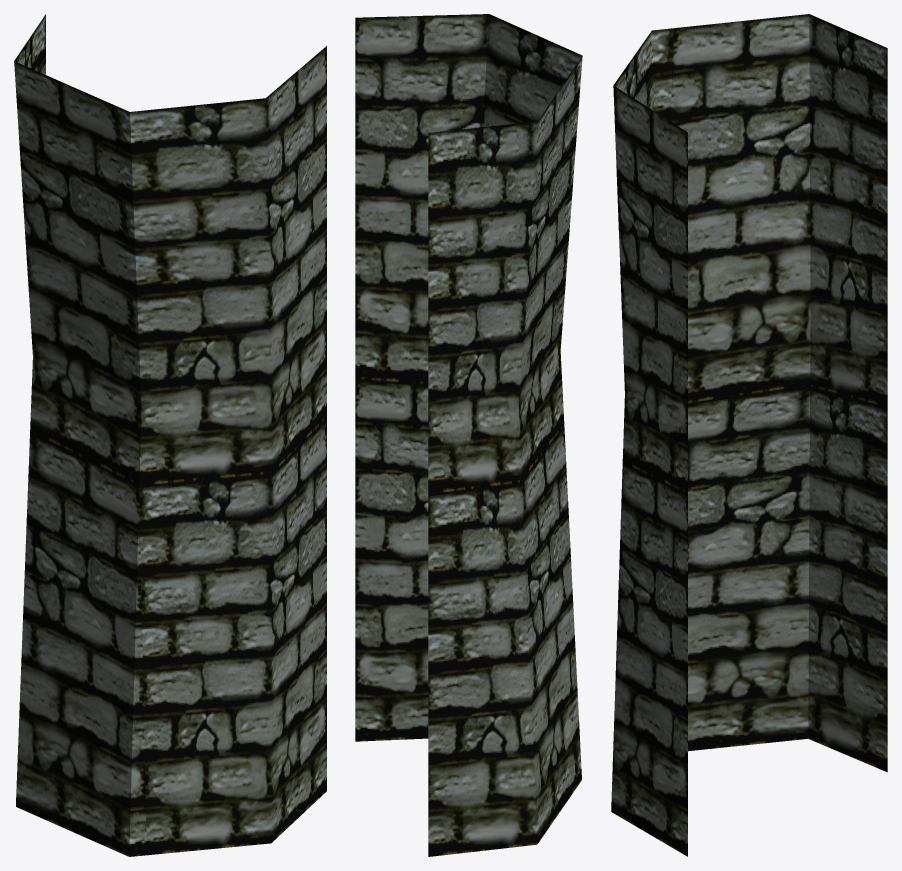
File: Erker_SchluchtModul [Stein]_648.glb
The picture shows the model from 3 angles, left to right: view 1: azimuth 30°, elevation 25°; view 2: azimuth 150°, elevation 25°; view 3: azimuth 270°, elevation 25°; orthographic projection. The views are drawn at different scales.
Parts seen in each view (by area): view 1: pPlaneShape10; view 2: pPlaneShape10; view 3: pPlaneShape10.
Part boxes in pixels (<box>): pPlaneShape10: <box>14,14,326,856</box>; pPlaneShape10: <box>355,14,582,856</box>; pPlaneShape10: <box>611,14,887,856</box>.
Size of the model in its own units: 0.3513 by 1 by 0.3462.
1 material, 1 textured.
